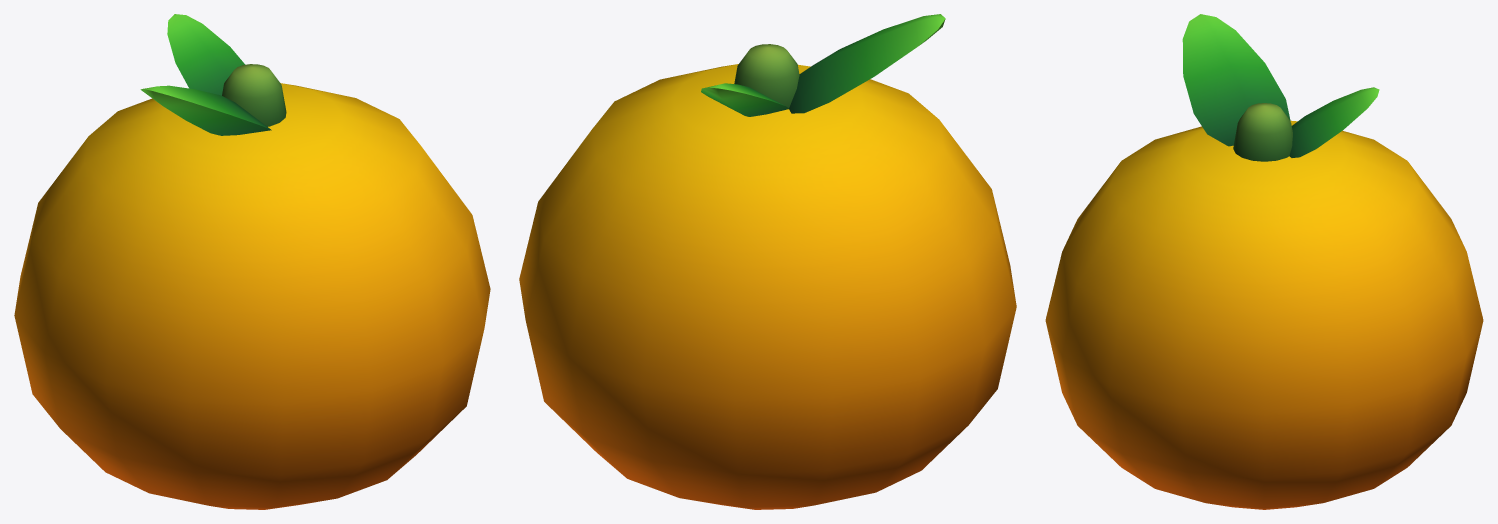
File: Grapefruit_01.glb
The picture shows the model from 3 angles, left to right: view 1: azimuth 30°, elevation 25°; view 2: azimuth 150°, elevation 25°; view 3: azimuth 270°, elevation 25°; orthographic projection. The views are drawn at different scales.
Parts seen in each view (by area): view 1: Grapefruit_01; view 2: Grapefruit_01; view 3: Grapefruit_01.
Boxes of the visible parts, x1=… form: Grapefruit_01: x1=14, y1=14, x2=490, y2=509; Grapefruit_01: x1=519, y1=14, x2=1016, y2=509; Grapefruit_01: x1=1045, y1=14, x2=1483, y2=509.
Size of the model in its own units: 0.3308 by 0.3459 by 0.3308.
1 material, 1 textured.
